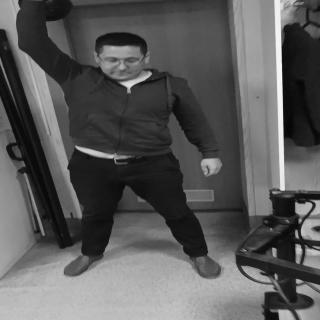kettlebell: (18, 2, 74, 23)
